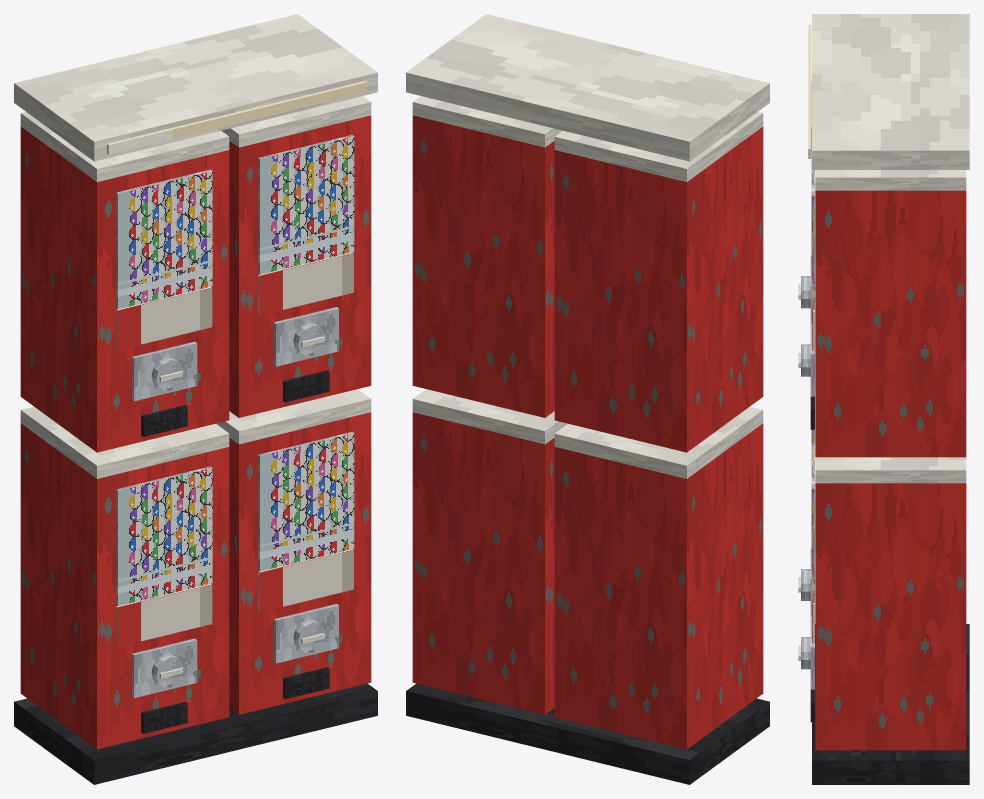
Rendered from route_machine_red.glb.
3 renders of one model, left to right at view 1: azimuth 30°, elevation 25°; view 2: azimuth 150°, elevation 25°; view 3: azimuth 270°, elevation 25°, orthographic.
Visible parts, largest first — view 1: Cube; view 2: Cube; view 3: Cube.
Boxes of the visible parts, x1,y1,x2,y2 form: Cube: (14, 14, 377, 784); Cube: (406, 14, 769, 784); Cube: (798, 14, 969, 784).
Size of the model in its own units: 0.9 by 1.95 by 0.478.
Materials: 7 (7 with a texture image).
